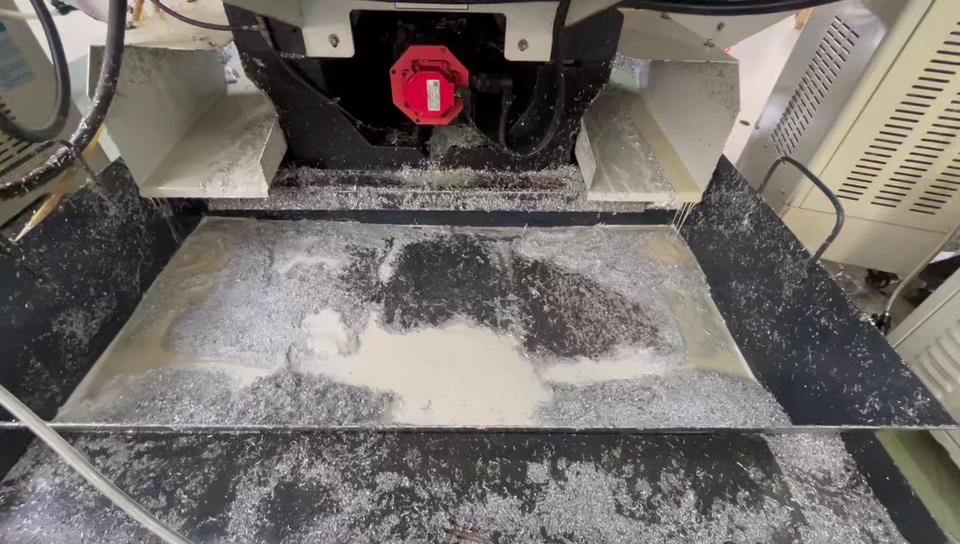iron_scrap: (545, 370, 789, 428), (207, 221, 298, 364), (514, 228, 706, 293), (768, 432, 878, 544), (301, 225, 389, 315), (240, 376, 378, 423), (541, 498, 685, 543), (5, 500, 131, 541), (111, 381, 224, 421)
